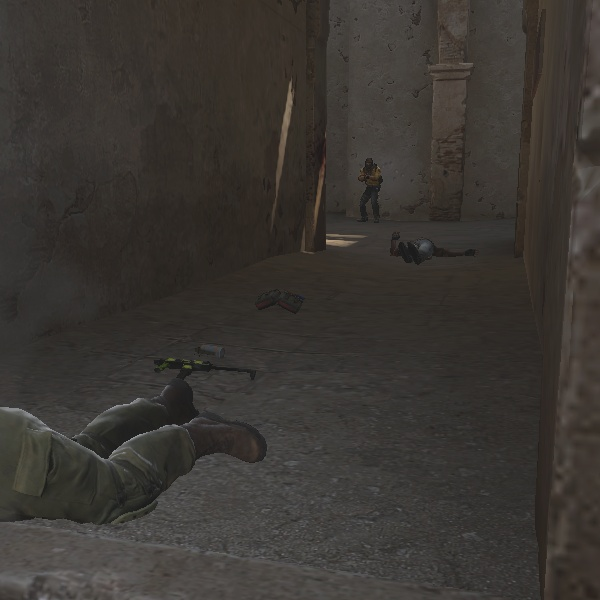t_body: (355, 156, 385, 221)
t_head: (365, 158, 374, 171)
